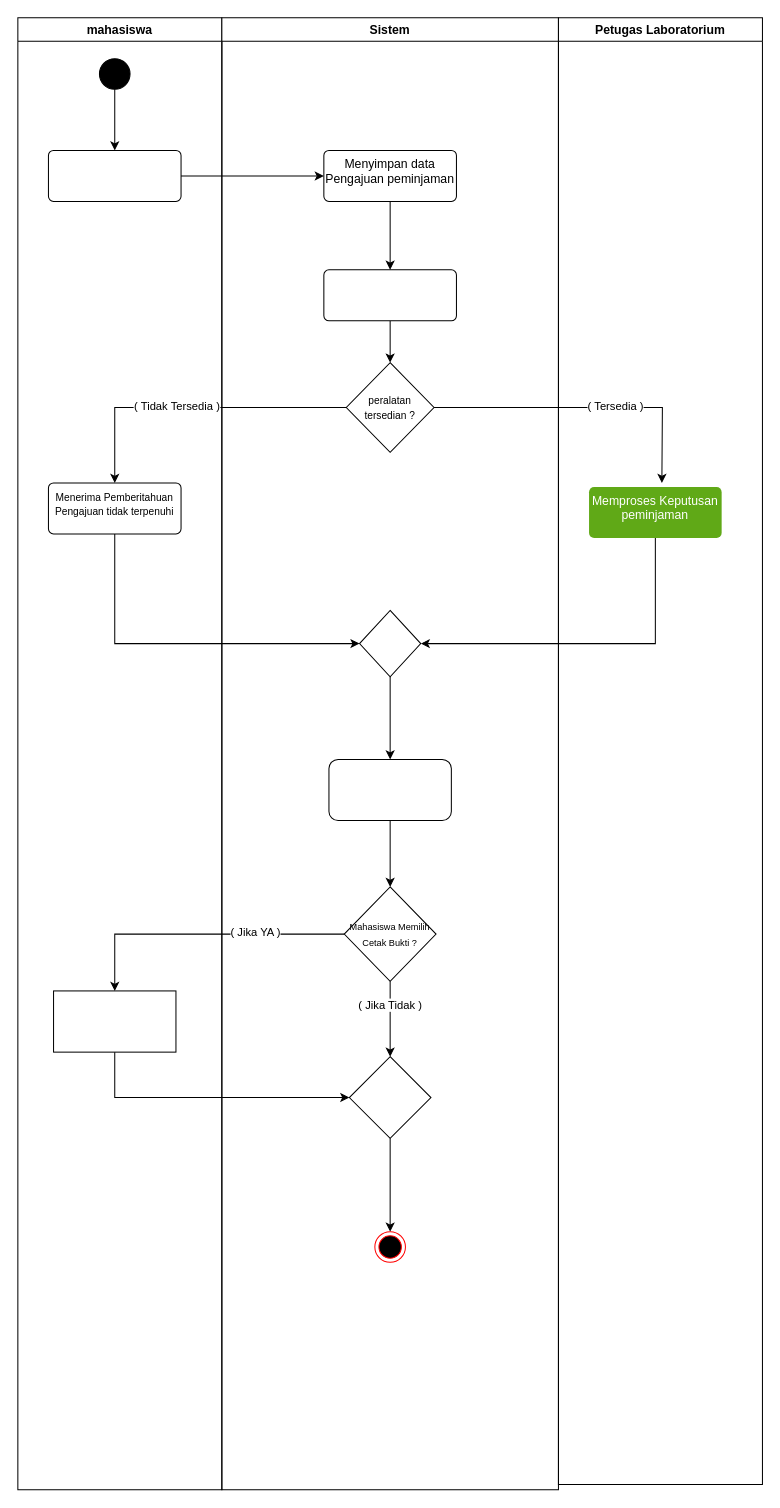
Some shapes in this 780 by 1508 pixel diagram are drawn without their labels. Each missing label, with the centre of its shape:
"Cetak Bukti Pengajuan (LAB-UC05)" belongs at (x=114, y=1021).
"Mencatat Hasil Akhir pengajuan" belongs at (x=389, y=789).
"Mengisi formulir pengajuan Peminjaman" belongs at (x=114, y=175).
"Periksa Ketersediaan ( dari LAB-UC04 )" belongs at (x=389, y=295).
